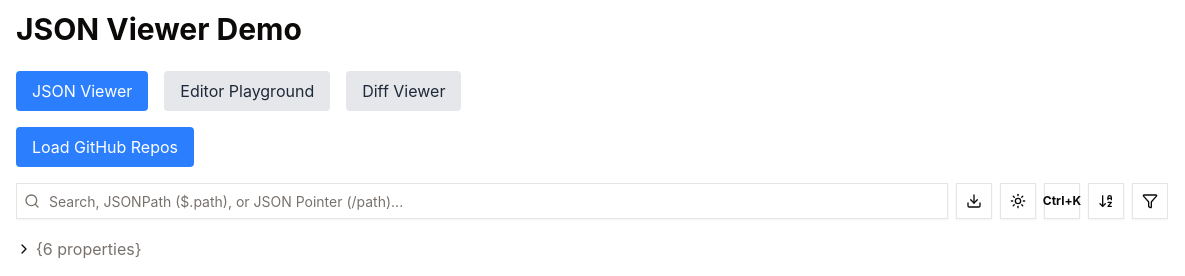
Demo App › Data source toggle › displays error message on fetch failure
The image size is (1185, 276).
Click the button "Load GitHub Repos".
click(105, 147)  # box left=16, top=127, right=194, bottom=167
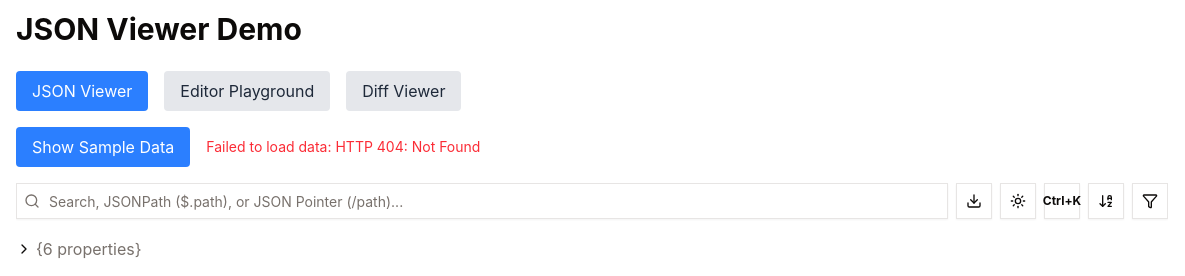
Check: the text "Failed to load data: HTTP 404: Not Found" is shown, box left=206, top=137, right=480, bottom=157
